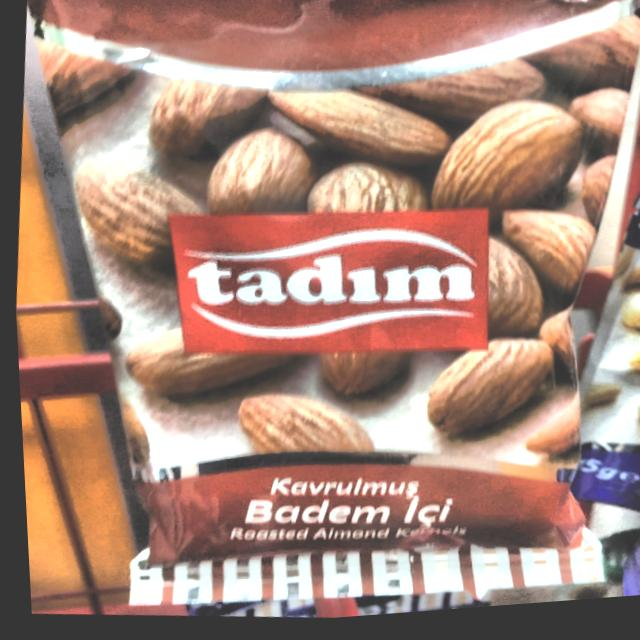Plastic: (49, 0, 640, 607)
